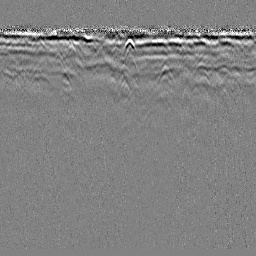cavity: (122, 36, 137, 51)
